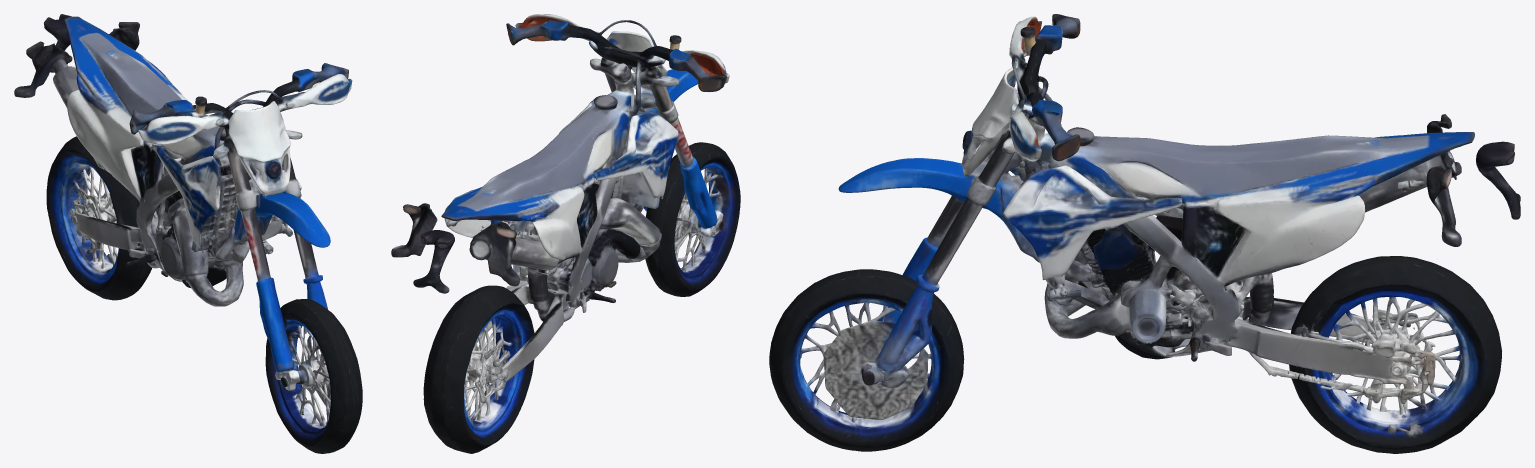
The model's file is bike2.glb.
3 renders of one model, left to right at view 1: azimuth 30°, elevation 25°; view 2: azimuth 150°, elevation 25°; view 3: azimuth 270°, elevation 25°, orthographic. The views are drawn at different scales.
Visible parts, largest first — view 1: world; view 2: world; view 3: world.
Part boxes in pixels (<box>): world: <box>14,14,362,453</box>; world: <box>391,14,740,453</box>; world: <box>769,14,1520,453</box>.
Size of the model in its own units: 0.4205 by 0.5775 by 1.
Materials: 1 (1 with a texture image).
